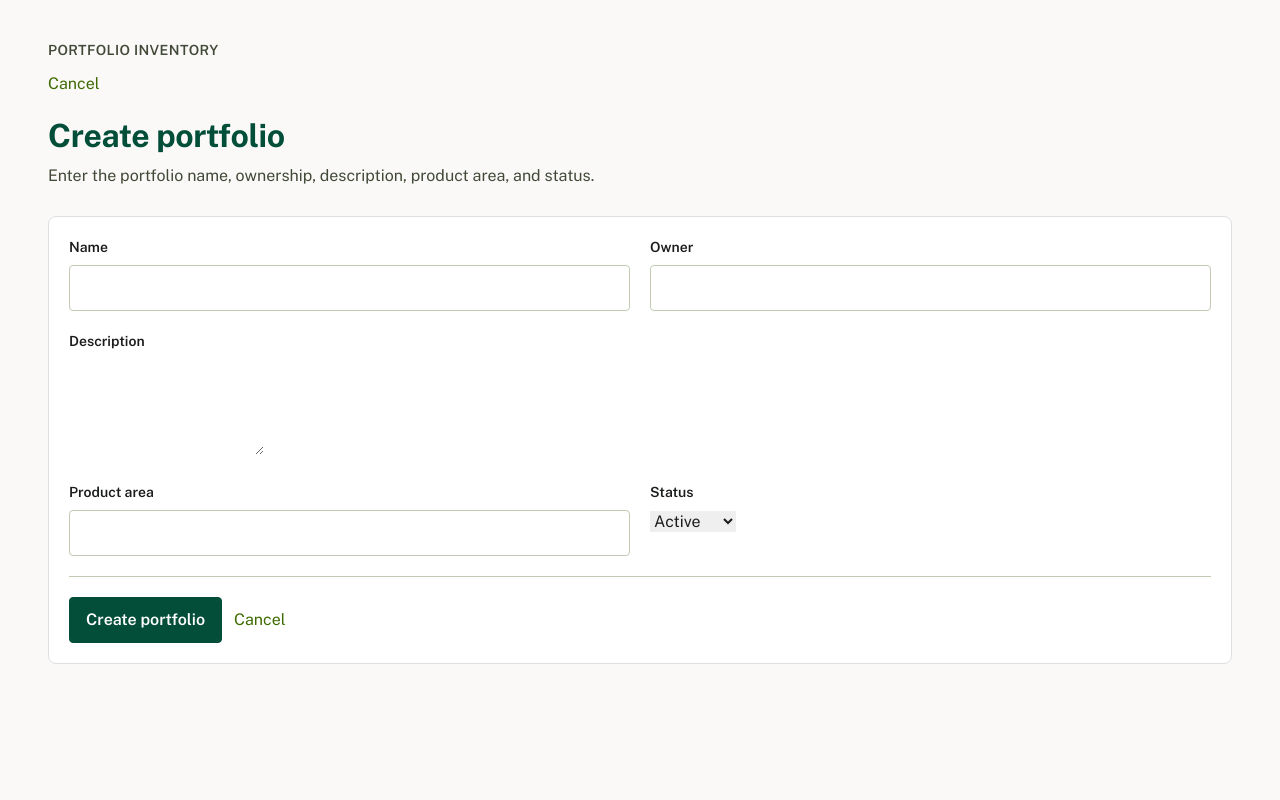
Test case: PortfolioFormPage › creates a portfolio with all fields and navigates to its detail page
The width and height of the screenshot is (1280, 800).
Expected: the form "Create portfolio" is shown, [48,216,1232,664]
Type "Payments portfolio" into the field labelled "Name" at (350, 288), box [69,265,630,311]
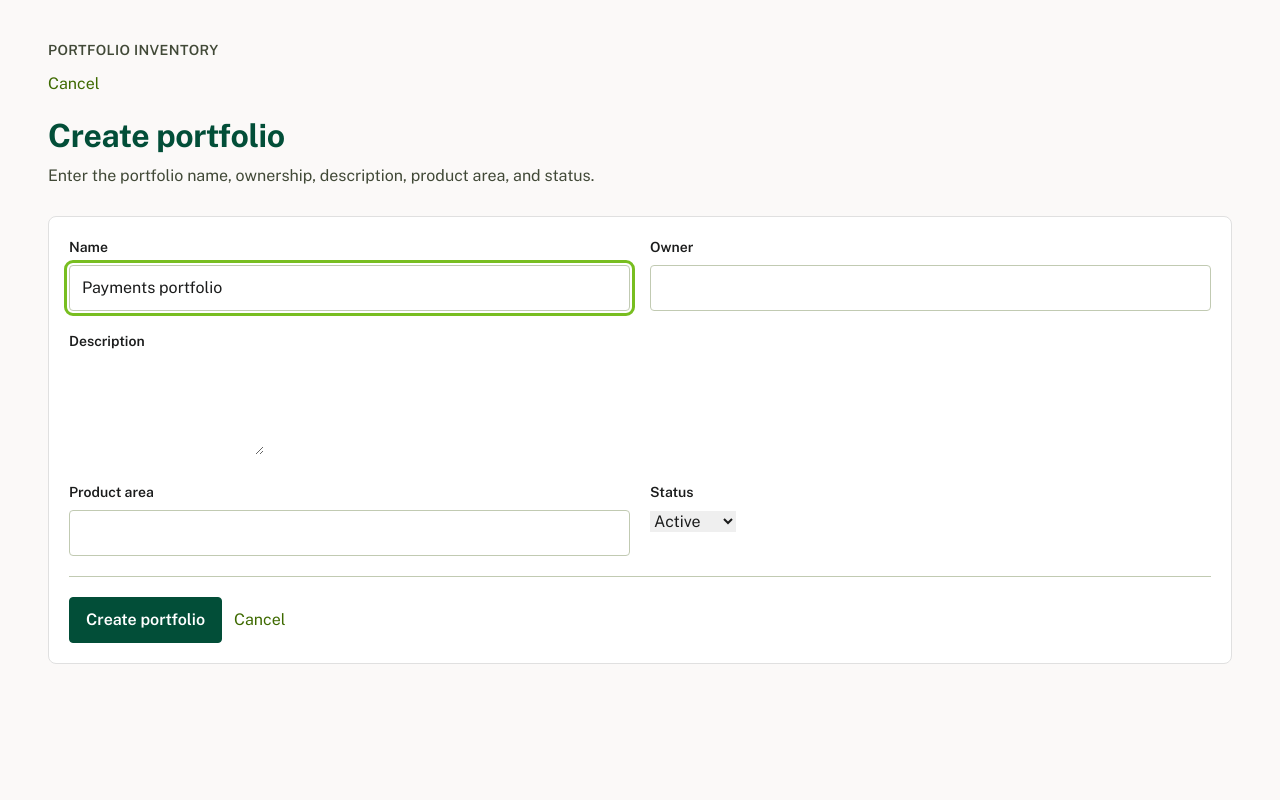
Type "Payments group" into the field labelled "Owner" at (930, 288), box [650,265,1211,311]
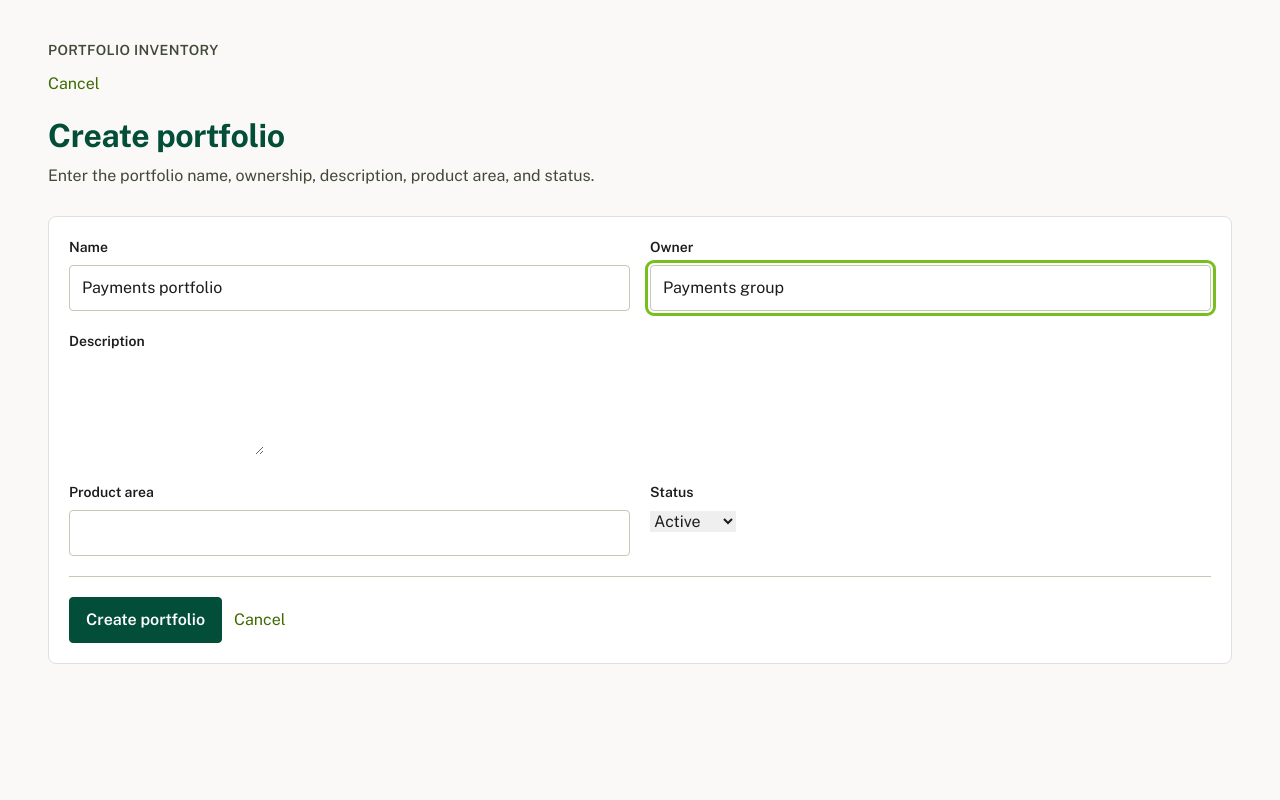
Type "Payments investment portfolio" into the text box labelled "Description" at (166, 407), box [69,359,264,455]
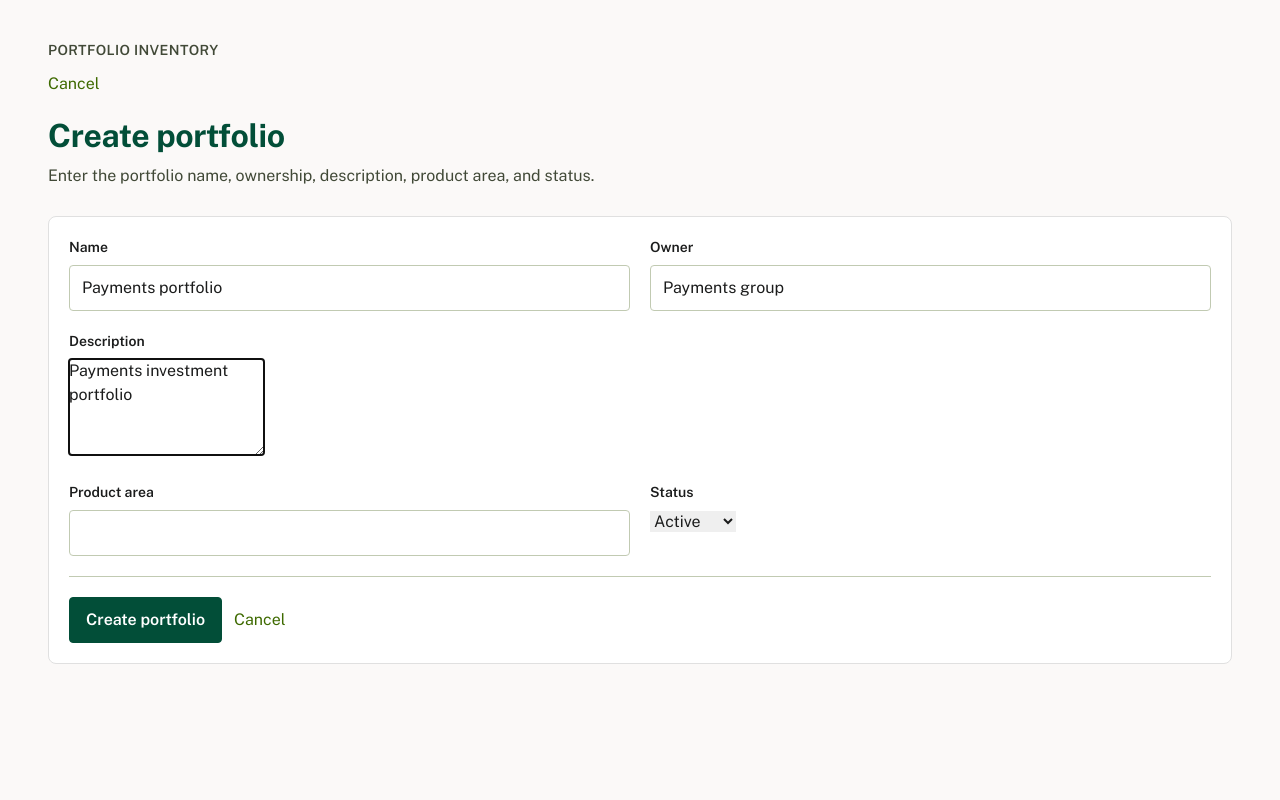
Type "Payments" into the field labelled "Product area" at (350, 533), box [69,510,630,556]
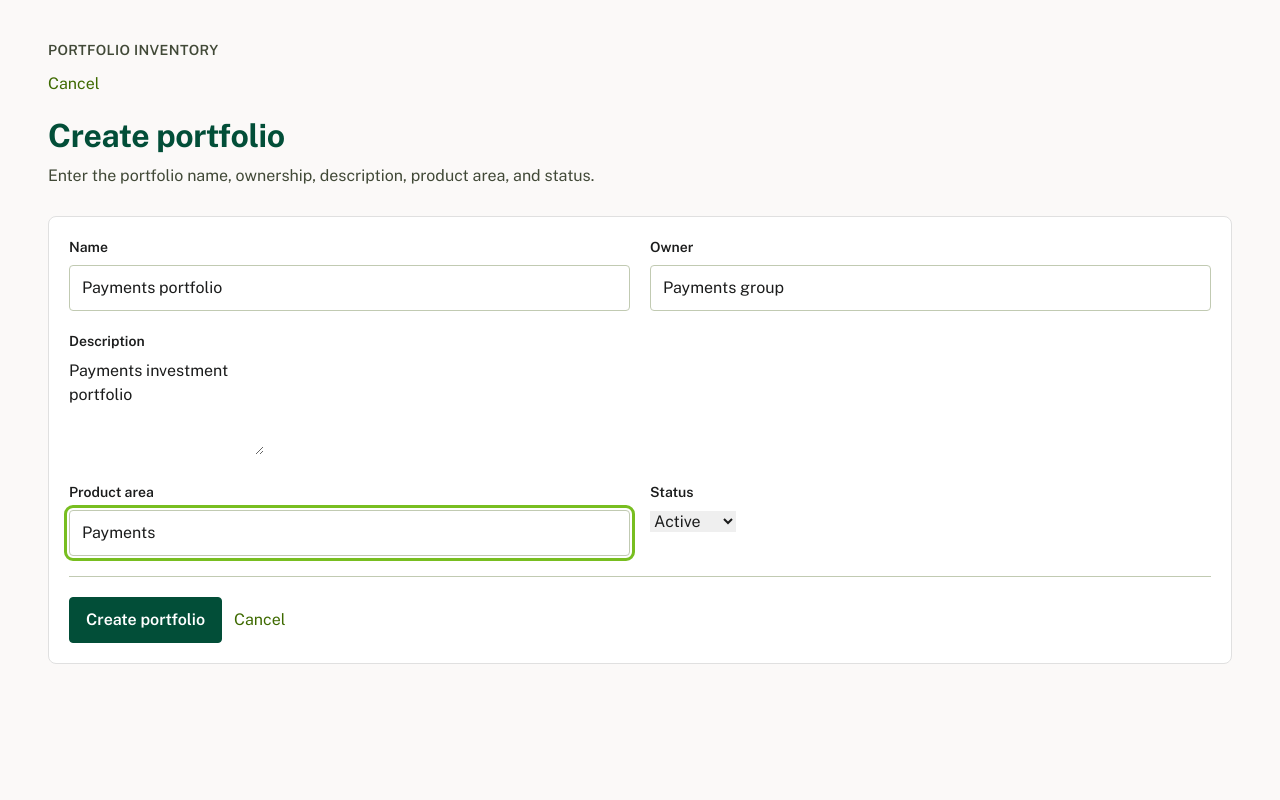
Select "Active" in the dropdown labelled "Status" at (693, 522), box [650,511,736,532]
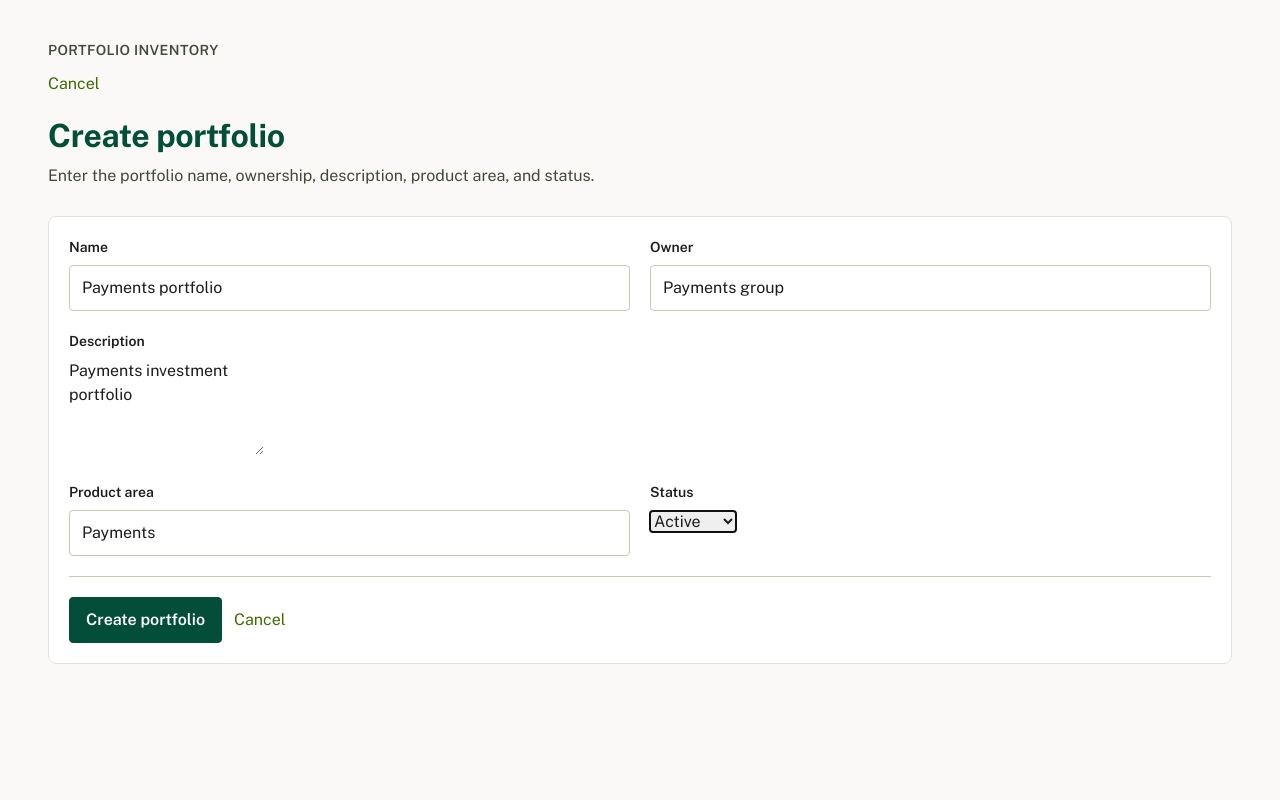
Click the button "Create portfolio" at (146, 620), box [69,597,222,643]
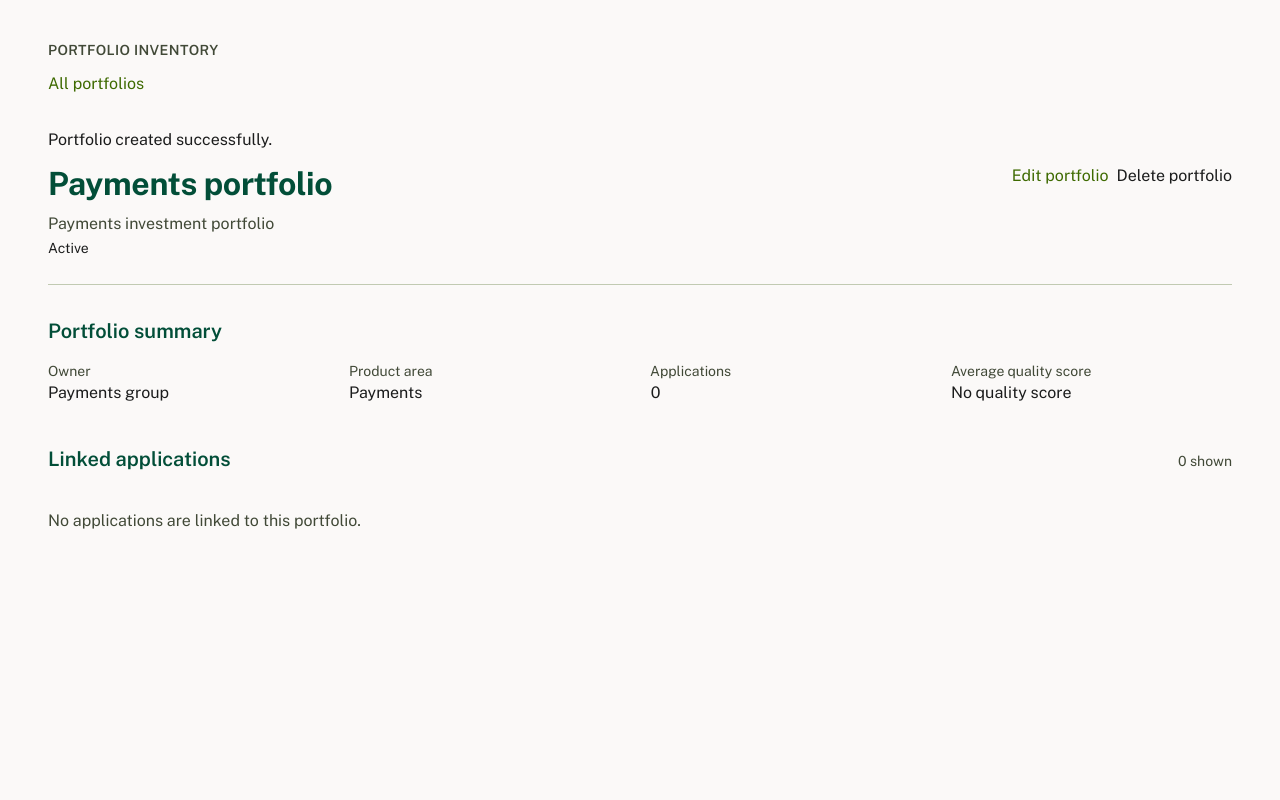
Expected: the heading "Payments portfolio" is shown, [48,164,332,204]
Expected: the text "Portfolio created successfully." is shown, [48,130,272,149]
